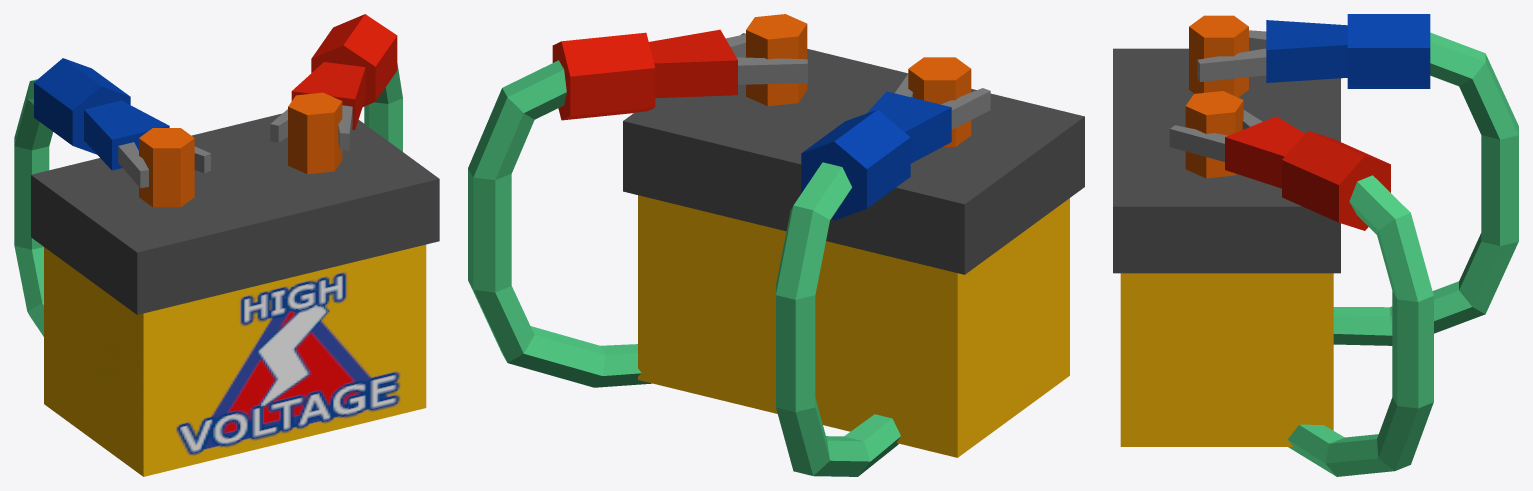
File: Battery.fbx
3 renders of one model, left to right at view 1: azimuth 30°, elevation 25°; view 2: azimuth 150°, elevation 25°; view 3: azimuth 270°, elevation 25°, orthographic. The views are drawn at different scales.
Visible parts, largest first — view 1: Battery; view 2: Battery; view 3: Battery.
Boxes of the visible parts, x1,y1,x2,y2 form: Battery: [14, 14, 439, 476]; Battery: [468, 14, 1084, 476]; Battery: [1113, 14, 1518, 476].
Size of the model in its own units: 102 by 73.47 by 82.67.
